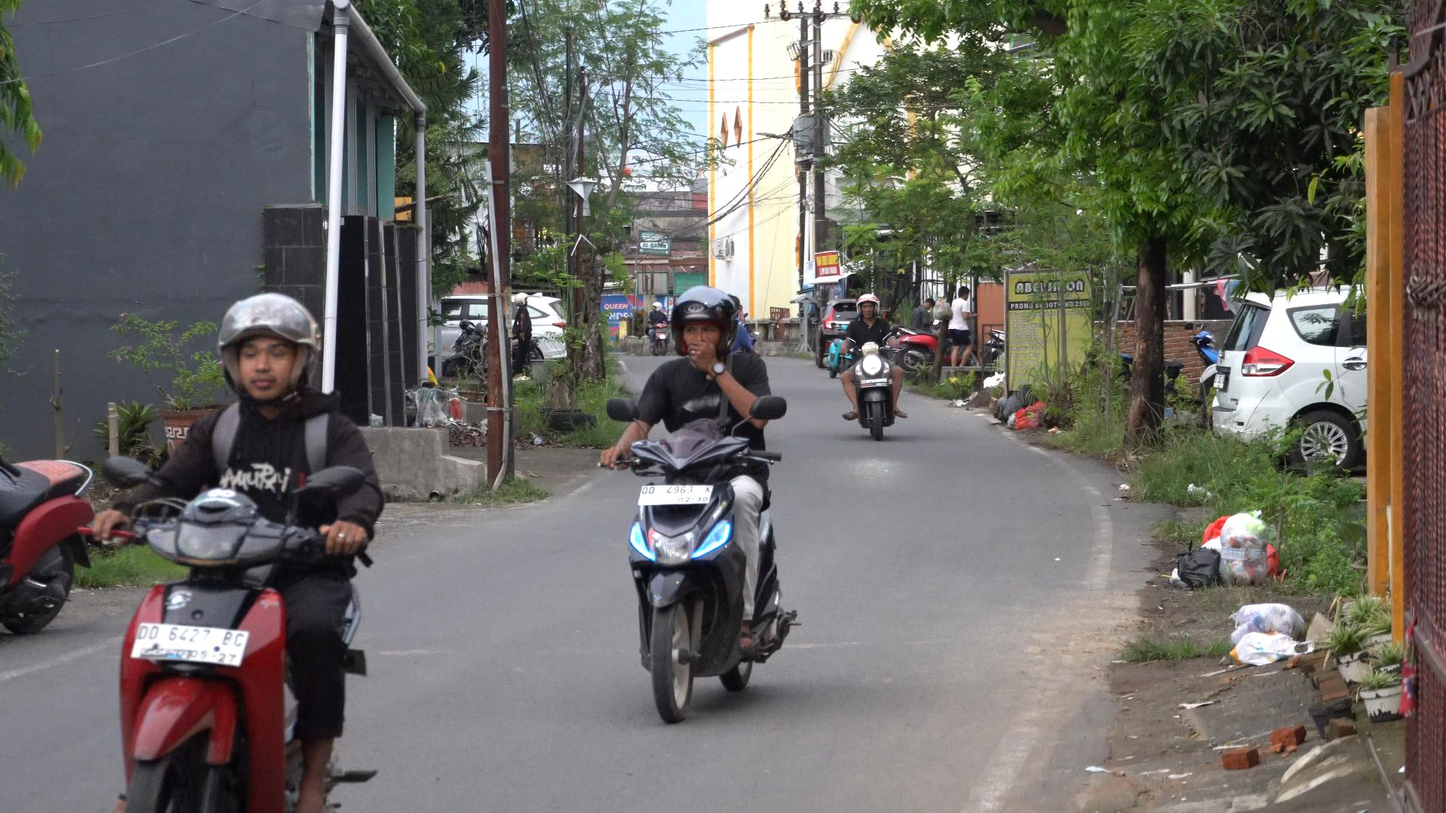number-plate: (130, 619, 250, 669), (631, 483, 712, 507)
